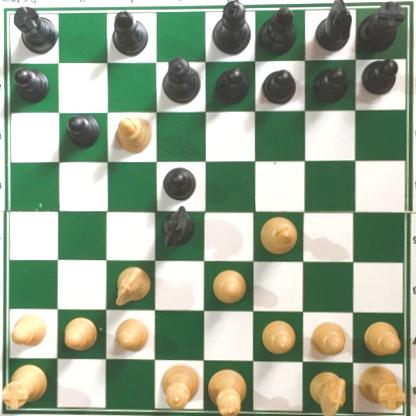black-bishop: (255, 5, 296, 53), (111, 11, 152, 57)
black-king: (210, 1, 251, 55)
black-knight: (315, 1, 354, 53), (158, 206, 197, 248)
black-pawn: (9, 66, 48, 105), (160, 163, 197, 202), (361, 56, 399, 93), (213, 68, 248, 107), (310, 67, 345, 106), (258, 69, 293, 105), (63, 109, 98, 144)
black-queen: (158, 55, 199, 104)
black-rook: (356, 1, 404, 54), (12, 3, 59, 54)
white-bishop: (255, 213, 298, 255), (112, 113, 153, 153)
white-king: (203, 366, 246, 416)
white-knight: (309, 369, 346, 416), (113, 261, 152, 304)
white-pawn: (8, 306, 50, 349), (61, 314, 100, 355), (358, 322, 401, 357), (261, 318, 299, 357), (211, 269, 248, 307), (112, 316, 150, 352), (310, 320, 346, 356)
white-queen: (157, 360, 200, 412)
white-rook: (1, 361, 49, 411), (355, 364, 404, 410)
